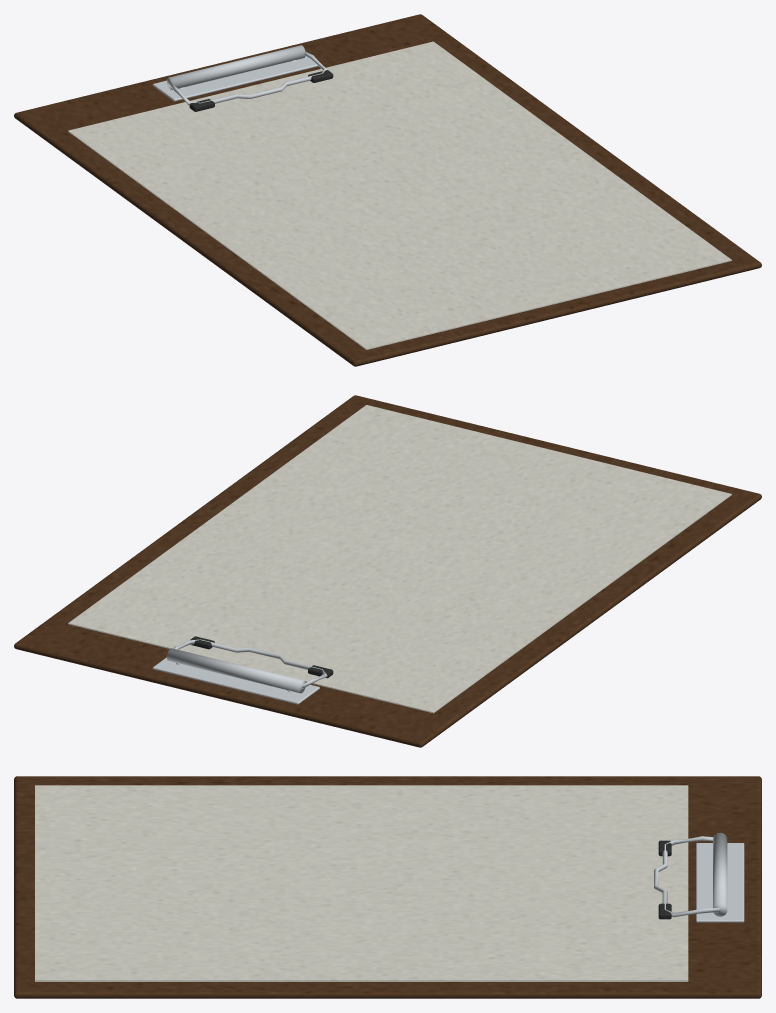
File: a4_clipboard.glb
The picture shows the model from 3 angles, top to bottom: view 1: azimuth 30°, elevation 25°; view 2: azimuth 150°, elevation 25°; view 3: azimuth 270°, elevation 25°; orthographic projection. The views are drawn at different scales.
Parts seen in each view (by area): view 1: A4 paper sheet 5, Thin hardboard clipboard, Rolled spring hinge, Clip fixed steel backplate, Spring wire jaw with finger lift, A4 paper sheet 1, A4 paper sheet 3; view 2: A4 paper sheet 5, Thin hardboard clipboard, Clip fixed steel backplate, Rolled spring hinge, Spring wire jaw with finger lift; view 3: A4 paper sheet 5, Thin hardboard clipboard, Clip fixed steel backplate, Rolled spring hinge, Spring wire jaw with finger lift, A4 paper sheet 1, A4 paper sheet 2, A4 paper sheet 4.
Boxes of the visible parts, x1=… form: A4 paper sheet 5: x1=68, y1=41, x2=731, y2=348; Thin hardboard clipboard: x1=14, y1=14, x2=761, y2=366; Rolled spring hinge: x1=167, y1=45, x2=305, y2=90; Clip fixed steel backplate: x1=152, y1=56, x2=318, y2=101; Spring wire jaw with finger lift: x1=168, y1=51, x2=327, y2=105; A4 paper sheet 1: x1=68, y1=131, x2=731, y2=349; A4 paper sheet 3: x1=68, y1=131, x2=731, y2=349; A4 paper sheet 5: x1=68, y1=405, x2=731, y2=712; Thin hardboard clipboard: x1=14, y1=395, x2=761, y2=747; Clip fixed steel backplate: x1=152, y1=657, x2=319, y2=704; Rolled spring hinge: x1=167, y1=648, x2=305, y2=693; Spring wire jaw with finger lift: x1=173, y1=639, x2=327, y2=688; A4 paper sheet 5: x1=35, y1=785, x2=688, y2=980; Thin hardboard clipboard: x1=14, y1=776, x2=761, y2=998; Clip fixed steel backplate: x1=696, y1=843, x2=744, y2=922; Rolled spring hinge: x1=713, y1=833, x2=727, y2=916; Spring wire jaw with finger lift: x1=654, y1=836, x2=720, y2=917; A4 paper sheet 1: x1=35, y1=981, x2=687, y2=981; A4 paper sheet 2: x1=35, y1=981, x2=687, y2=981; A4 paper sheet 4: x1=35, y1=981, x2=687, y2=981.
Bounding box in the file's own units: 0.235 × 0.0113 × 0.34.
Materials: 4 (2 with a texture image).
